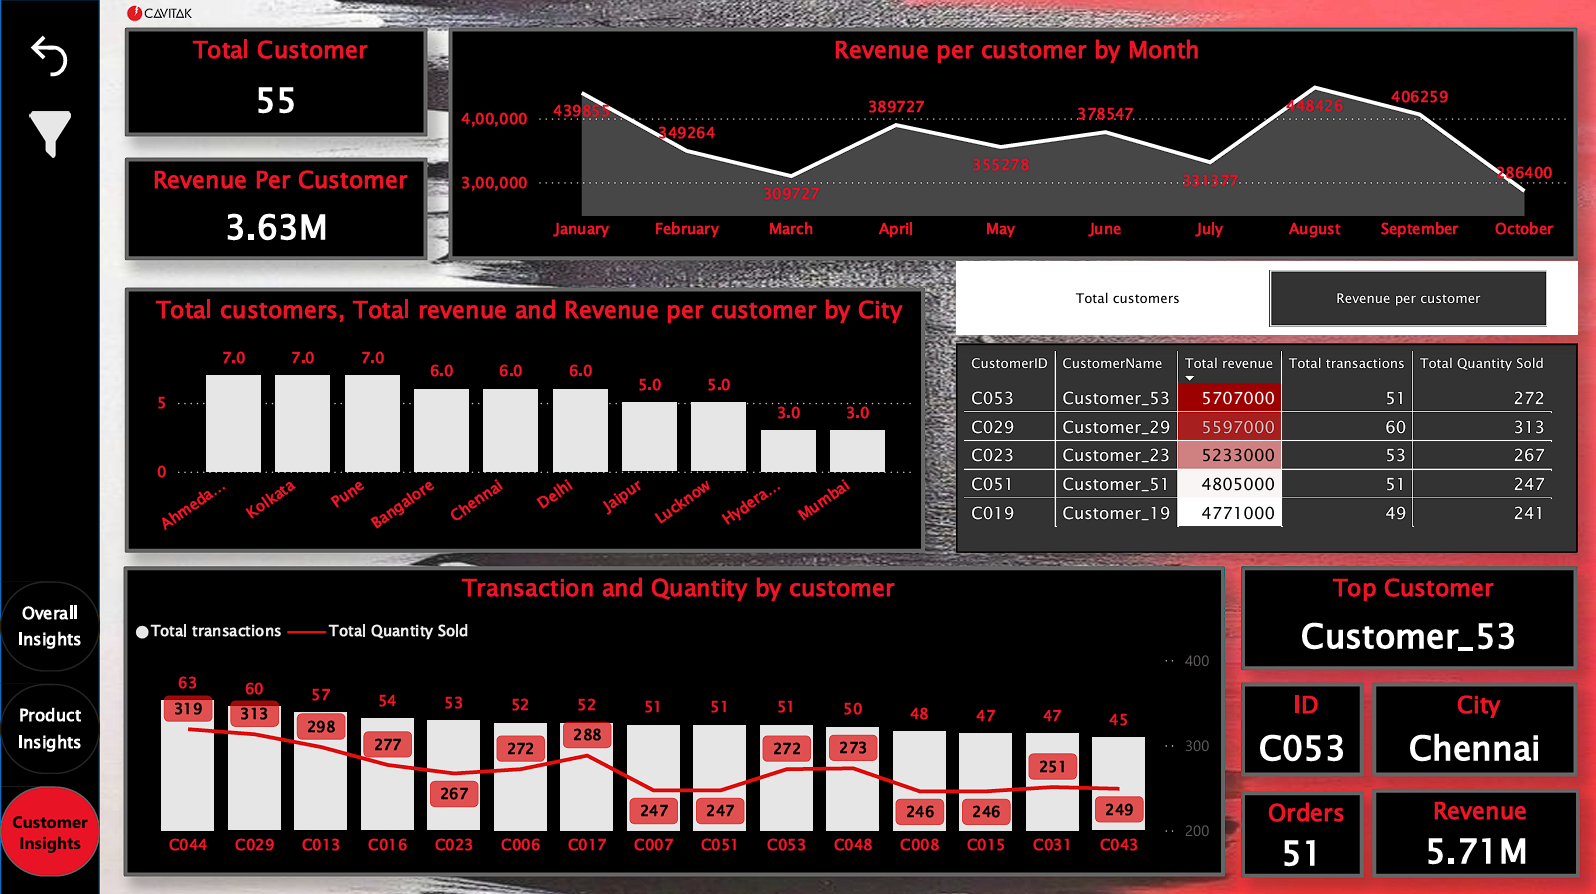

The dashboard page shown, as its layout file describes it:
{"tool":"powerbi","page":{"name":"Customer Insights","canvas":[1280,720],"ordinal":2},"visuals":[{"type":"shape","box":[0,0,80,720],"z":0},{"type":"pageNavigator","box":[0,466.2,80,237.5],"z":1000},{"type":"image","box":[79.4,0,96.7,23.1],"z":2000},{"type":"card","title":"Top Customer","fields":{"Values":["Measure table.Selected Customer"]},"box":[992.6,454.5,269.8,82.2],"z":3000},{"type":"tableEx","fields":{"Values":["Customers.CustomerID","Customers.CustomerName","Measure table.Total revenue","Measure table.Total transactions","Measure table.Total Quantity Sold"]},"box":[765.3,275.9,496.6,167.3],"z":4000},{"type":"card","title":"ID","fields":{"Values":["Measure table.Selected Customer ID"]},"box":[992.6,546.8,98.1,75],"z":5000},{"type":"card","title":"City","fields":{"Values":["Measure table.Selected City"]},"box":[1097.9,546.8,164.5,75],"z":6000},{"type":"card","title":"Total Customer","fields":{"Values":["Measure table.Total customers"]},"box":[99.6,23.1,242.4,86.6],"z":7000},{"type":"card","title":"Revenue Per Customer","fields":{"Values":["Measure table.Revenue per customer"]},"box":[99.6,127,242.4,82.2],"z":8000},{"type":"clusteredColumnChart","fields":{"Category":["Customers.City"],"Y":["Measure table.Total customers"]},"box":[99.7,231.4,640.7,211.8],"z":9000},{"type":"areaChart","fields":{"Y":["Measure table.Total customers"],"Category":["Calendar.Date.Variation.Date Hierarchy.Month"]},"box":[359.2,23.1,903.2,186.1],"z":10000},{"type":"slicer","fields":{"Values":["Customer Insights.Customer Insights"]},"box":[765.3,210,496.6,58.7],"z":11000},{"type":"card","title":"Orders","fields":{"Values":["Measure table.Total order (customer details)"]},"box":[993.1,633.6,97.9,69.4],"z":12000},{"type":"card","title":"Revenue","fields":{"Values":["Measure table.Total Revenue (customer details)"]},"box":[1098.1,631.8,165.5,71.2],"z":13000},{"type":"lineClusteredColumnComboChart","title":"Transaction and Quantity by customer","fields":{"Y":["Measure table.Total transactions"],"Y2":["Measure table.Total Quantity Sold"],"Category":["Customers.CustomerID"]},"box":[99.5,454.2,880.9,248.1],"z":14000},{"type":"actionButton","box":[24.3,90,32.9,37.1],"z":15000},{"type":"actionButton","box":[18.1,23.6,45.3,43.5],"z":16001}]}

Visuals, with their boxes in screenshot pixels (x1, y1, x2, y2), scaled from the page's 1280x720 canvas onto the 1596x894 screenshot:
shape: 0, 0, 100, 893
pageNavigator: 0, 579, 100, 874
image: 99, 0, 220, 29
"Top Customer" card: 1238, 564, 1574, 666
tableEx - Customers.CustomerID x Customers.CustomerName: 954, 343, 1573, 550
"ID" card: 1238, 679, 1360, 772
"City" card: 1369, 679, 1574, 772
"Total Customer" card: 124, 29, 426, 136
"Revenue Per Customer" card: 124, 158, 426, 260
clusteredColumnChart - Customers.City x Measure table.Total customers: 124, 287, 923, 550
areaChart - Measure table.Total customers x Calendar.Date.Variation.Date Hierarchy.Month: 448, 29, 1574, 260
slicer - Customer Insights.Customer Insights: 954, 261, 1573, 334
"Orders" card: 1238, 787, 1360, 873
"Revenue" card: 1369, 784, 1576, 873
"Transaction and Quantity by customer" lineClusteredColumnComboChart: 124, 564, 1222, 872
actionButton: 30, 112, 71, 158
actionButton: 23, 29, 79, 83
